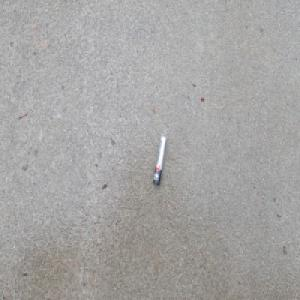Battery: (152, 133, 167, 187)
